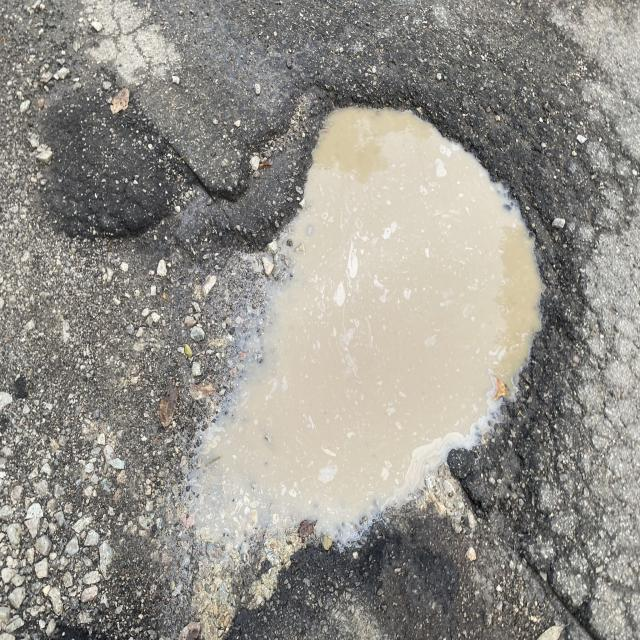Pothole: (135, 31, 582, 542)
